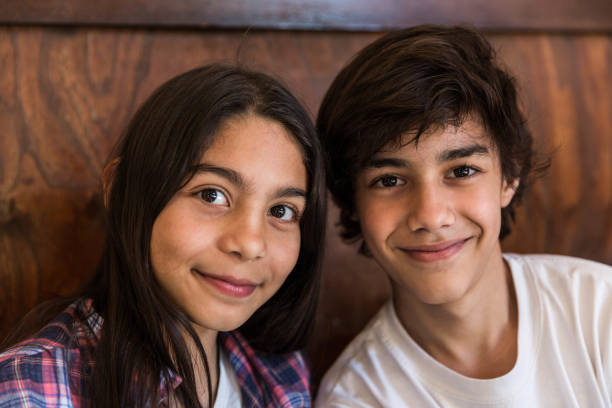face: (161, 149, 308, 335), (352, 141, 513, 310)
